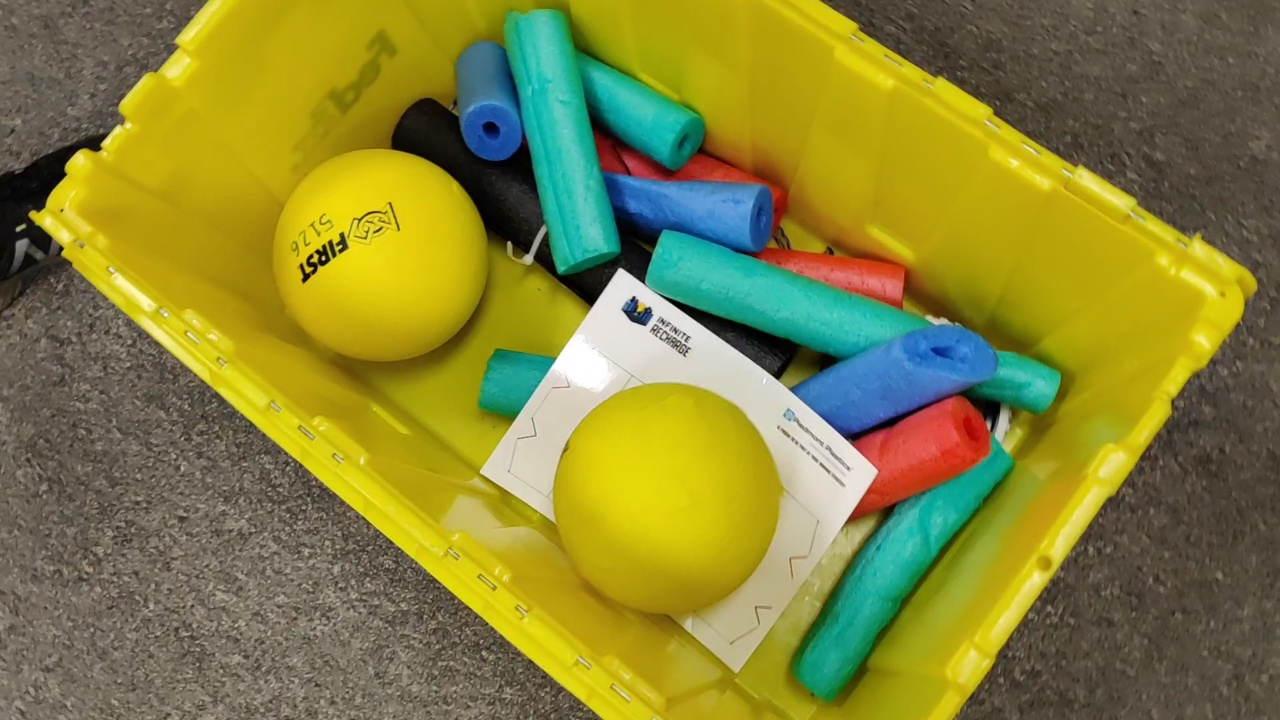Ball: (554, 381, 780, 622), (274, 150, 489, 353)
